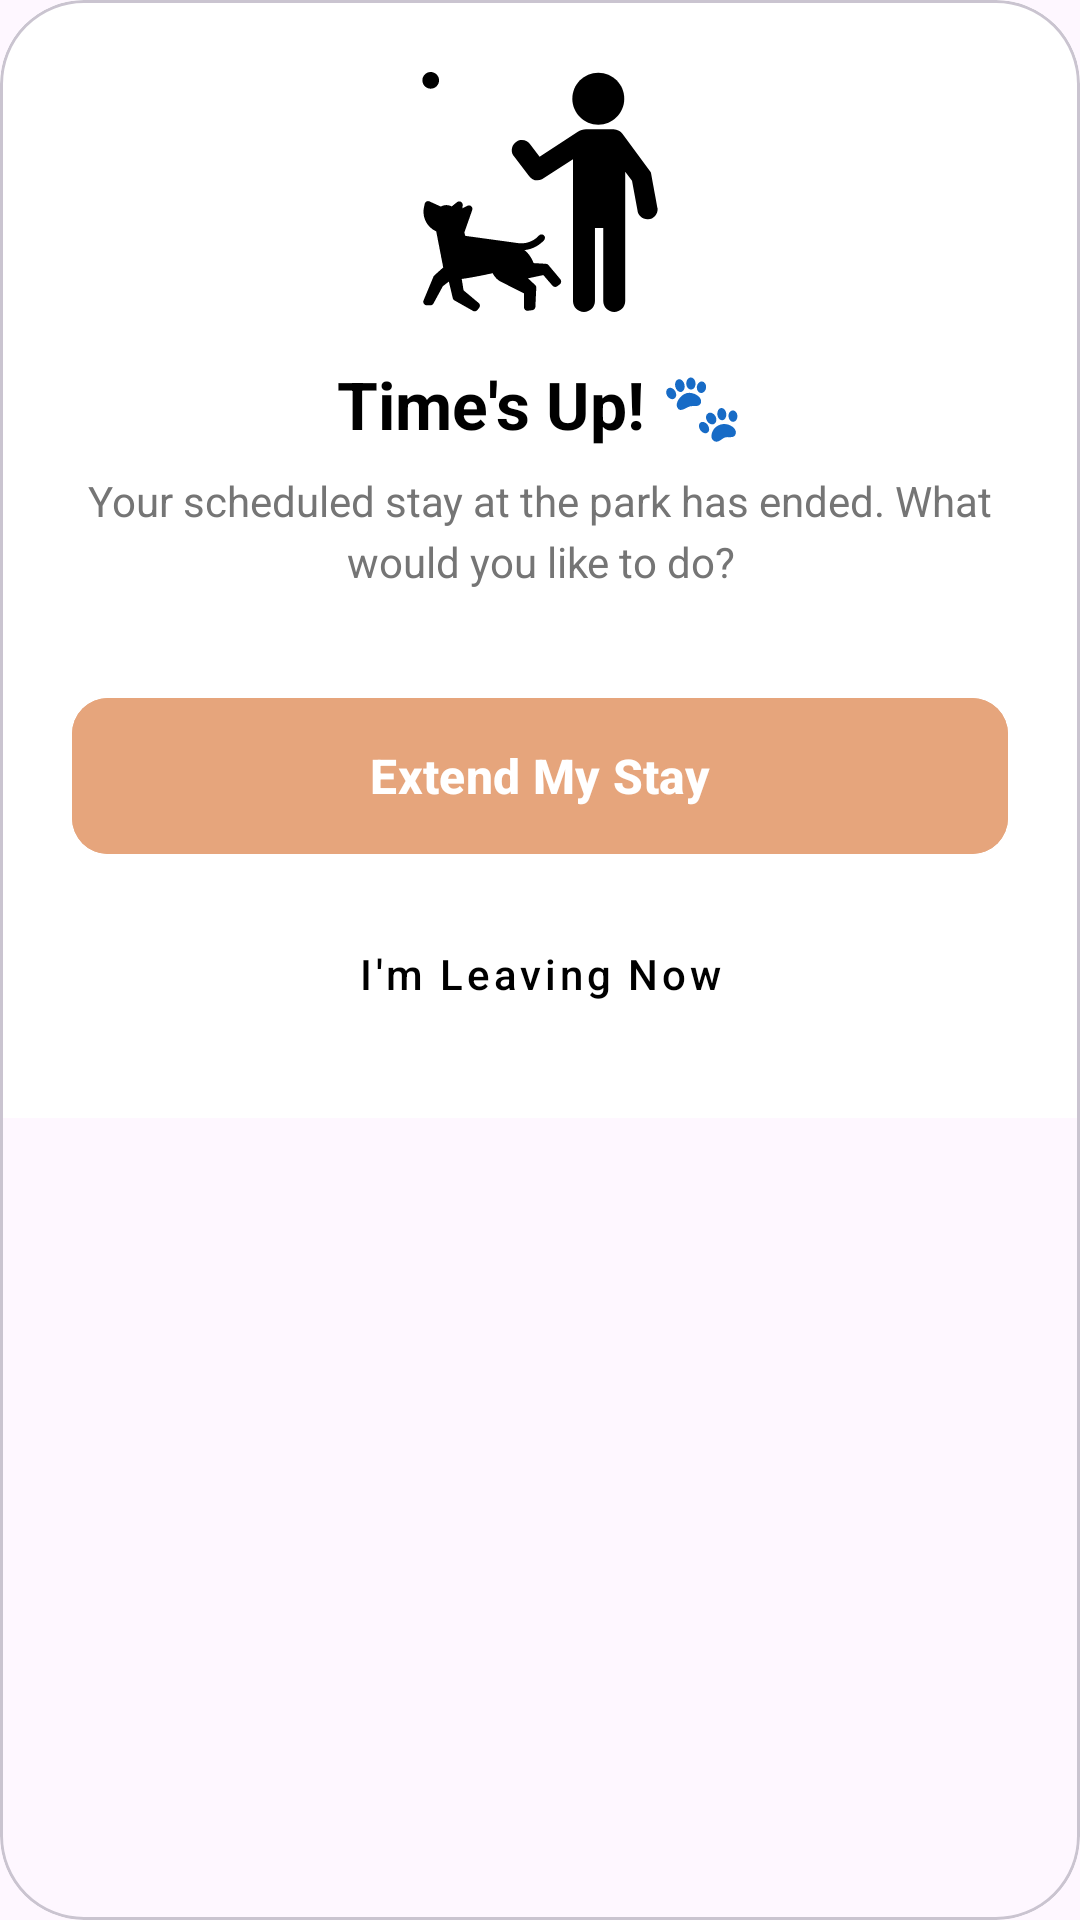

Point at icon controls on the screen. Image size 1080w x 1920h, points as [x,y].
dog playing: [540,192]
